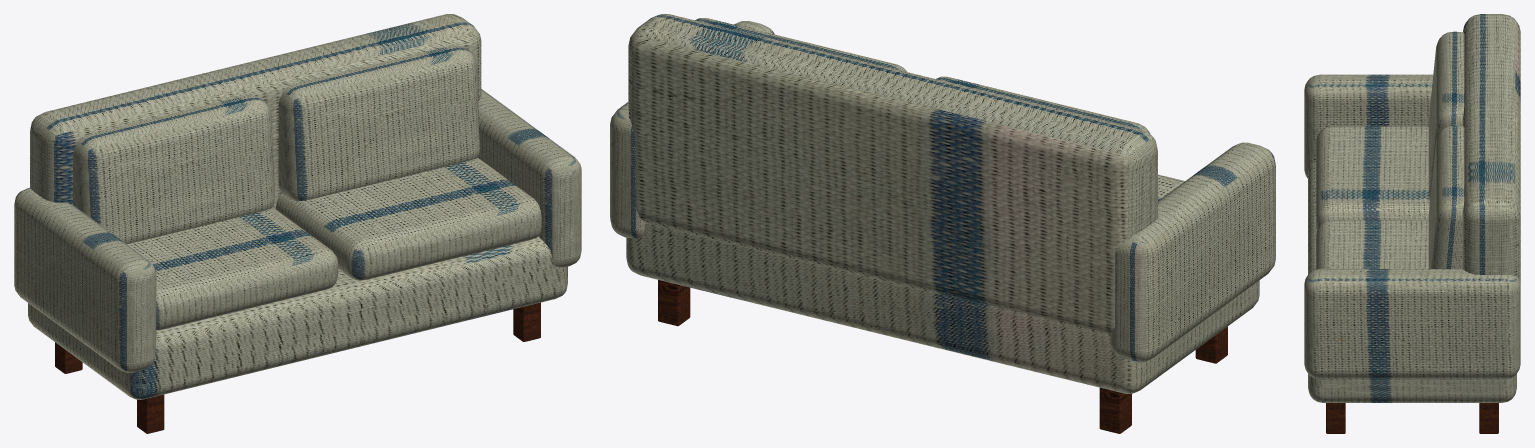
File: sofa.gltf
The picture shows the model from 3 angles, left to right: view 1: azimuth 30°, elevation 25°; view 2: azimuth 150°, elevation 25°; view 3: azimuth 270°, elevation 25°; orthographic projection. The views are drawn at different scales.
Visible parts, largest first — view 1: Upholstered sofa base, Back cushion.001, Back cushion, Seat cushion.001, Sofa back, Sofa arm, Seat cushion, Sofa arm.001, Sofa oak foot.001, Sofa oak foot.003, Sofa oak foot; view 2: Sofa back, Upholstered sofa base, Sofa arm, Sofa arm.001, Sofa oak foot, Sofa oak foot.002, Back cushion, Back cushion.001, Sofa oak foot.001; view 3: Sofa arm.001, Sofa back, Seat cushion, Sofa arm, Upholstered sofa base, Seat cushion.001, Back cushion.001, Back cushion, Sofa oak foot.002, Sofa oak foot.003.
Part boxes in pixels (<box>): Upholstered sofa base: <box>28,236,567,399</box>; Back cushion.001: <box>278,45,479,201</box>; Back cushion: <box>73,95,274,244</box>; Seat cushion.001: <box>276,157,541,280</box>; Sofa back: <box>30,14,481,208</box>; Sofa arm: <box>14,187,156,372</box>; Seat cushion: <box>127,207,338,330</box>; Sofa arm.001: <box>477,89,581,267</box>; Sofa oak foot.001: <box>137,394,164,433</box>; Sofa oak foot.003: <box>513,302,540,341</box>; Sofa oak foot: <box>55,342,82,373</box>; Sofa back: <box>628,14,1157,335</box>; Upholstered sofa base: <box>626,223,1259,393</box>; Sofa arm: <box>1110,142,1275,362</box>; Sofa arm.001: <box>610,21,774,238</box>; Sofa oak foot: <box>1099,387,1131,433</box>; Sofa oak foot.002: <box>658,280,690,326</box>; Back cushion: <box>936,76,1150,133</box>; Back cushion.001: <box>695,18,906,71</box>; Sofa oak foot.001: <box>1195,326,1227,363</box>; Sofa arm.001: <box>1304,269,1520,379</box>; Sofa back: <box>1462,14,1520,282</box>; Seat cushion: <box>1316,126,1429,230</box>; Sofa arm: <box>1304,74,1433,178</box>; Upholstered sofa base: <box>1308,160,1516,402</box>; Seat cushion.001: <box>1316,220,1428,269</box>; Back cushion.001: <box>1428,125,1464,268</box>; Back cushion: <box>1428,31,1464,200</box>; Sofa oak foot.002: <box>1479,403,1498,433</box>; Sofa oak foot.003: <box>1326,403,1345,433</box>.
Size of the model in its own units: 1.9 by 0.99 by 0.82.
Materials: 4 (2 with a texture image).
